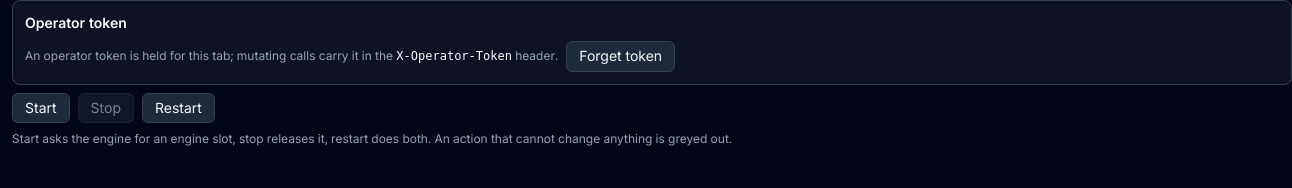
ProfileControls › posts the action with the session token and refreshes the page
The width and height of the screenshot is (1292, 188).
Click the button "Start". click: (41, 108)
box: x1=12 y1=93 x2=70 y2=123
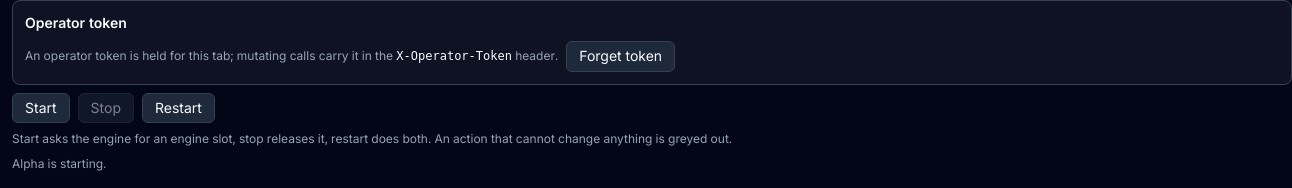
Expected: the text "Alpha is starting." is shown, x1=12 y1=156 x2=106 y2=171
